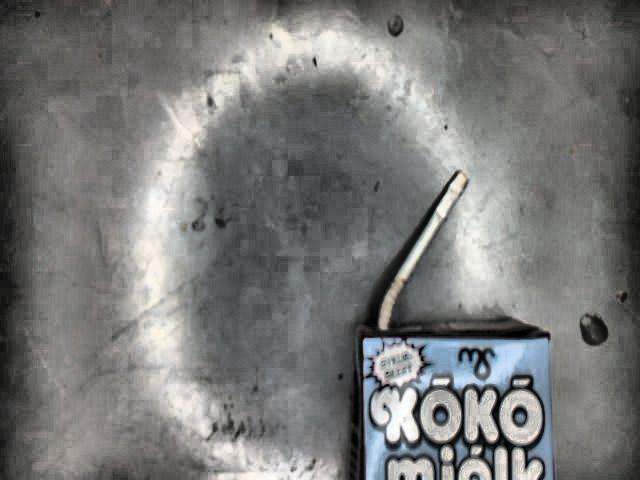Paper: (324, 158, 579, 480)
